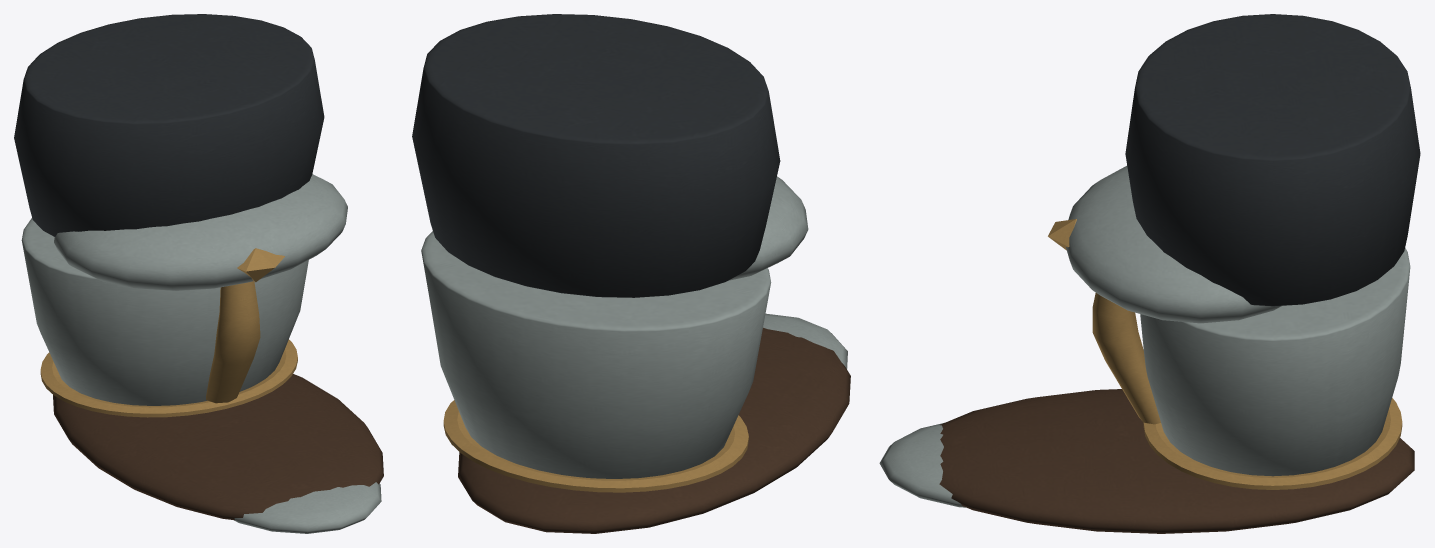
The model's file is hero_soulbinder_leg.glb.
The picture shows the model from 3 angles, left to right: view 1: azimuth 30°, elevation 25°; view 2: azimuth 150°, elevation 25°; view 3: azimuth 270°, elevation 25°; orthographic projection. The views are drawn at different scales.
Parts seen in each view (by area): view 1: hero_soulbinder_leg charcoal cloth, hero_soulbinder_leg funerary tarnished silver, hero_soulbinder_leg old leather, hero_soulbinder_leg dull relic gold; view 2: hero_soulbinder_leg charcoal cloth, hero_soulbinder_leg funerary tarnished silver, hero_soulbinder_leg old leather, hero_soulbinder_leg dull relic gold; view 3: hero_soulbinder_leg charcoal cloth, hero_soulbinder_leg funerary tarnished silver, hero_soulbinder_leg old leather, hero_soulbinder_leg dull relic gold.
Boxes of the visible parts, bbox=[...] form: hero_soulbinder_leg charcoal cloth: bbox=[14, 14, 324, 236]; hero_soulbinder_leg funerary tarnished silver: bbox=[21, 174, 381, 533]; hero_soulbinder_leg old leather: bbox=[53, 374, 383, 520]; hero_soulbinder_leg dull relic gold: bbox=[40, 248, 297, 417]; hero_soulbinder_leg charcoal cloth: bbox=[412, 14, 780, 297]; hero_soulbinder_leg funerary tarnished silver: bbox=[421, 176, 847, 478]; hero_soulbinder_leg old leather: bbox=[458, 327, 850, 533]; hero_soulbinder_leg dull relic gold: bbox=[443, 400, 748, 492]; hero_soulbinder_leg charcoal cloth: bbox=[1125, 14, 1420, 306]; hero_soulbinder_leg funerary tarnished silver: bbox=[879, 165, 1410, 507]; hero_soulbinder_leg old leather: bbox=[939, 389, 1414, 533]; hero_soulbinder_leg dull relic gold: bbox=[1048, 219, 1402, 489].
Size of the model in its own units: 0.94 by 1.13 by 1.38.
Materials: 4 (4 with a texture image).
